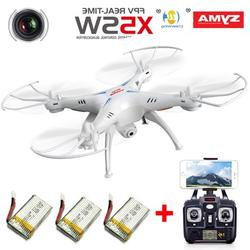drone: (2, 47, 248, 180)
